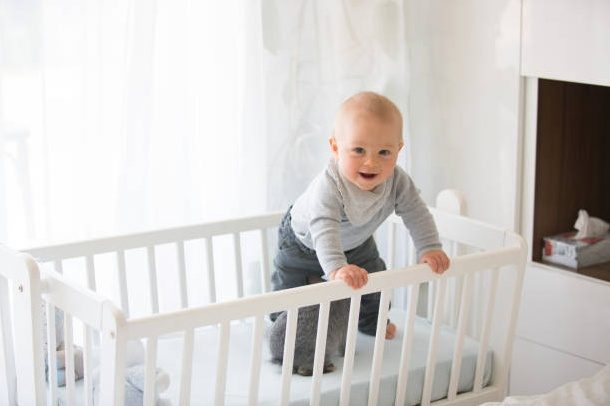baby: (272, 92, 449, 289)
crib: (0, 208, 525, 404)
